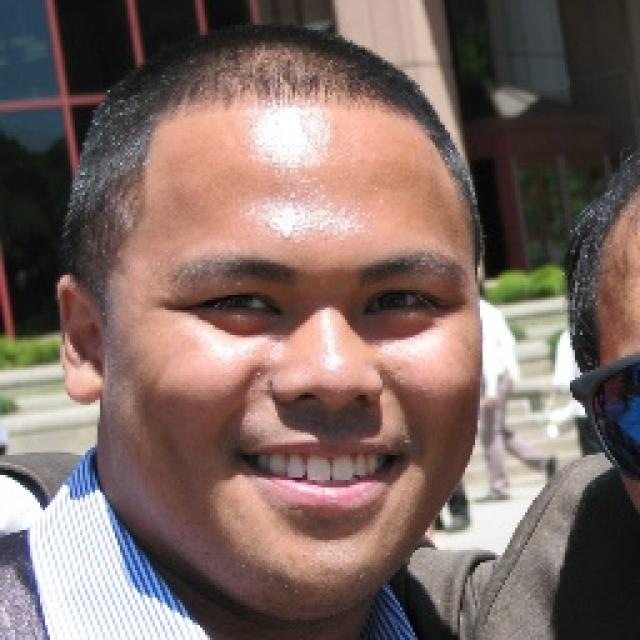earlobe: (54, 274, 108, 406)
